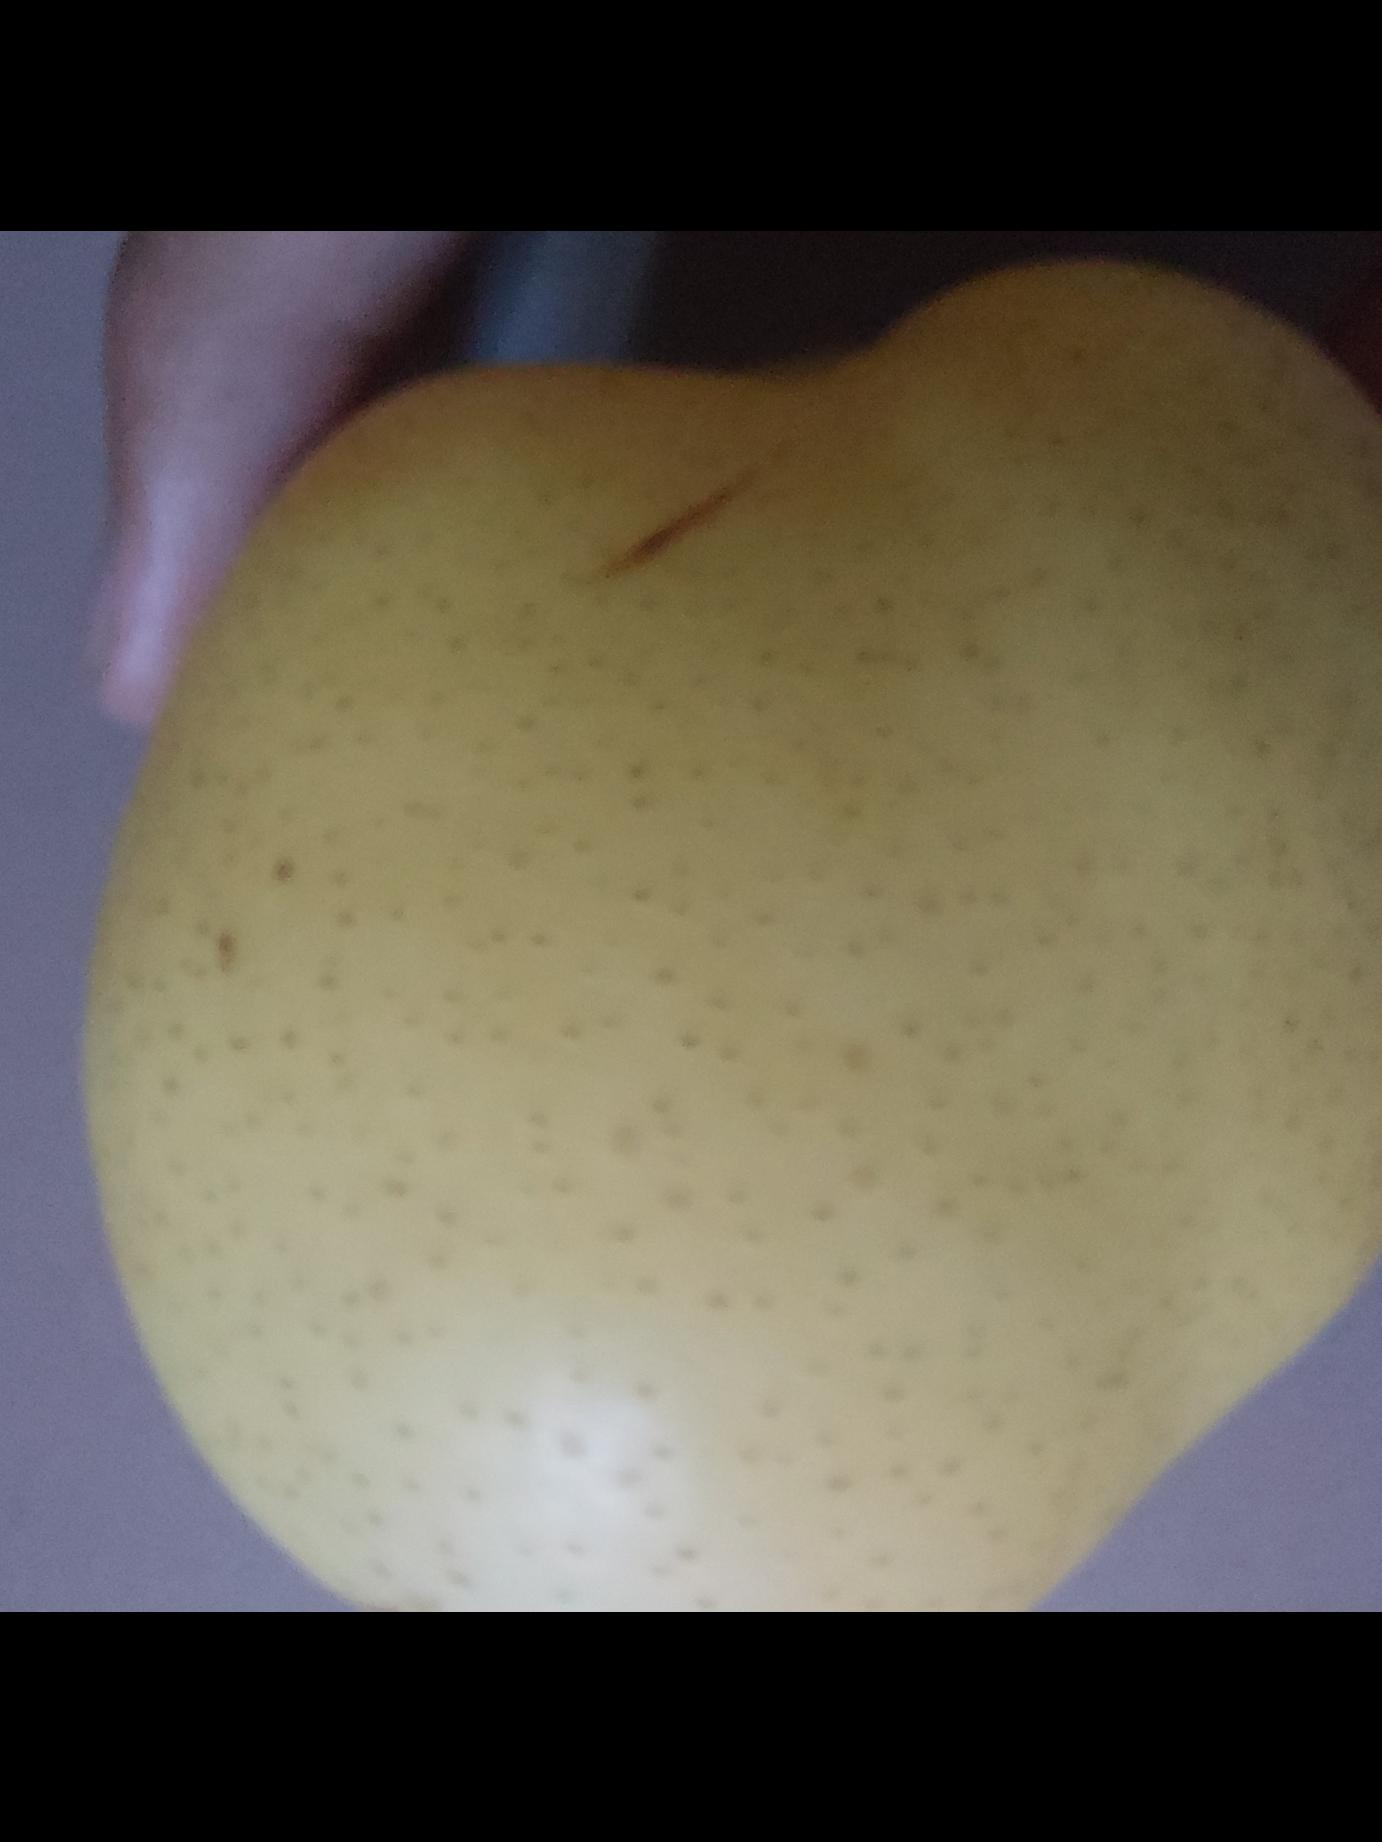Good Pear: (73, 265, 1382, 1608)
